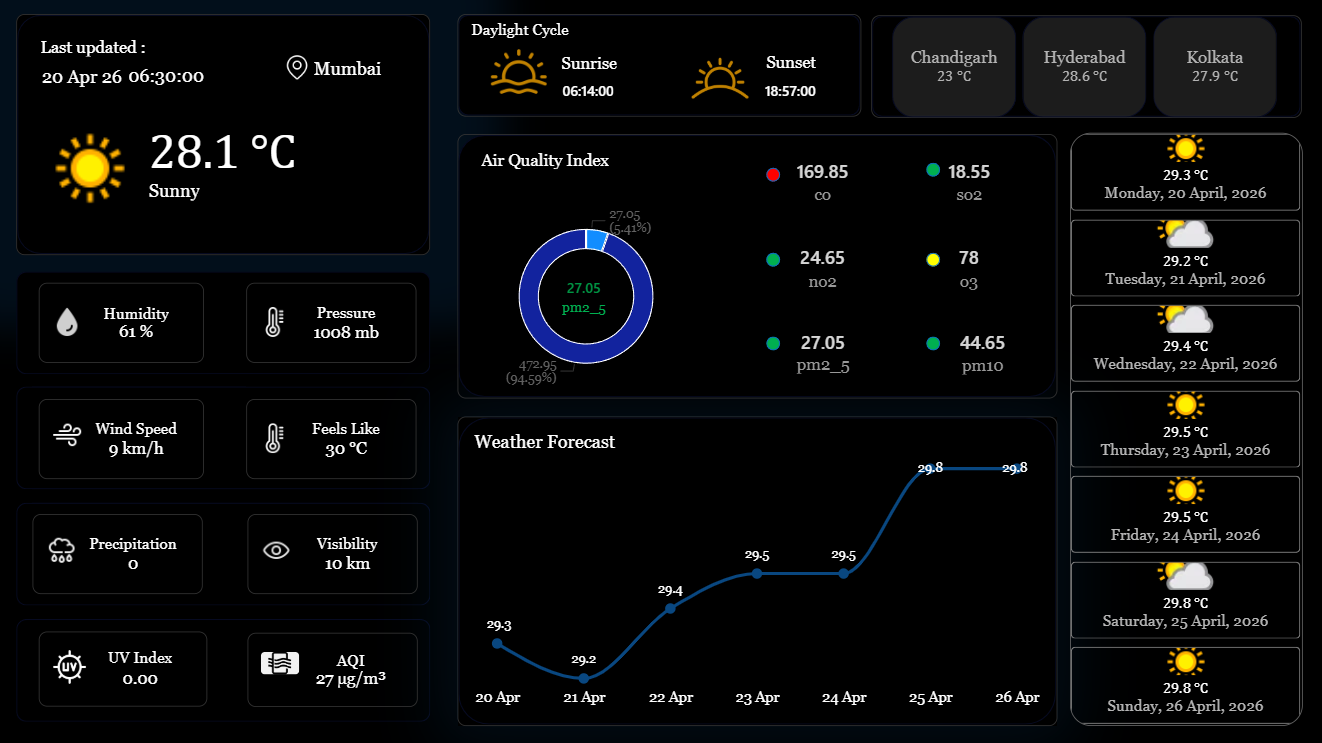

Layout of this report page (visuals, bound fields, positions):
{"tool":"powerbi","page":{"name":"Page 1","canvas":[1280,720],"ordinal":0},"visuals":[{"type":"shape","box":[15.7,14.3,397.1,231.4],"z":0},{"type":"shape","box":[438.3,400,575,296.7],"z":1000},{"type":"shape","box":[15.7,261.4,397.1,98.6],"z":2000},{"type":"shape","box":[15.7,594.3,397.1,98.6],"z":3000},{"type":"shape","box":[15.7,482.9,397.1,98.6],"z":4000},{"type":"shape","box":[15.7,371.4,397.1,98.6],"z":5000},{"type":"shape","box":[835.7,15.7,412.9,98.6],"z":6000},{"type":"shape","box":[438.6,14.3,387.1,98.6],"z":7000},{"type":"advancedSlicerVisual","fields":{"Values":["location.location.name"]},"box":[835.7,17.1,411.4,97.1],"z":8000},{"type":"shape","box":[142.9,101.4,190,80],"z":9000},{"type":"shape","box":[142.9,160,144.3,42.9],"z":10000},{"type":"shape","box":[301.1,44.4,98.9,42.2],"z":11000},{"type":"shape","box":[31,51,89,43],"z":12000},{"type":"image","box":[268.9,54.4,32.2,23.3],"z":13000},{"type":"cardVisual","fields":{"Data":["Min(current.current.condition.icon)"]},"box":[15.7,87.1,172.9,150],"z":14000},{"type":"lineChart","title":"Weather Forecast","fields":{"Category":["forcast_day.date.Variation.Date Hierarchy.Year","forcast_day.date.Variation.Date Hierarchy.Quarter","forcast_day.date.Variation.Date Hierarchy.Month","forcast_day.date.Variation.Date Hierarchy.Day"],"Y":["Avg(forcast_day.forecast.forecastday.day.avgtemp_c)"]},"box":[438.6,400,574.3,297.1],"z":15000},{"type":"shape","box":[120,50,79,44],"z":16000},{"type":"shape","box":[37.1,24.3,105.7,41.4],"z":17000},{"type":"cardVisual","fields":{"Data":["current.Humidity KPI"]},"box":[36.7,271.7,158.3,76.7],"z":18000},{"type":"cardVisual","fields":{"Data":["current.AQI KPI"]},"box":[237.1,607.1,162.9,71.4],"z":19000},{"type":"cardVisual","fields":{"Data":["Avg(current.current.uv)"]},"box":[36.7,606.7,161.7,71.7],"z":20000},{"type":"cardVisual","fields":{"Data":["current.Wind Speed"]},"box":[36.7,383.3,158.3,76.7],"z":21000},{"type":"cardVisual","fields":{"Data":["current.Visibility KPI"]},"box":[237.3,493.8,163,76.7],"z":22000},{"type":"cardVisual","fields":{"Data":["current.Feels Like KPI"]},"box":[236.7,383.3,163.3,76.7],"z":23000},{"type":"advancedSlicerVisual","fields":{"Values":["forcast_day.day_name"]},"box":[1025.7,128.6,222.9,568.6],"z":24000},{"type":"shape","box":[451.2,7.5,167.5,41.2],"z":25000},{"type":"shape","box":[527.3,40,67.3,40],"z":26000},{"type":"cardVisual","fields":{"Data":["Min(forcast_day.sunrise)"]},"box":[527.3,65.5,91.8,41.8],"z":27000},{"type":"image","box":[648.6,40,84.3,72.9],"z":28000},{"type":"shape","box":[729.1,48.2,55.5,23.6],"z":29000},{"type":"cardVisual","fields":{"Data":["Min(forcast_day.sunset)"]},"box":[721.8,71.8,88.2,30],"z":30000},{"type":"image","box":[467.1,42.9,60,52.9],"z":31000},{"type":"cardVisual","fields":{"Data":["Sum(current.current.precip_mm)"]},"box":[31.7,493.3,163.3,76.7],"z":32000},{"type":"shape","box":[642.9,128.6,167.1,42.9],"z":33000},{"type":"cardVisual","fields":{"Data":["current.Pressure KPI"]},"box":[236.7,271.7,163.3,76.7],"z":34000},{"type":"shape","box":[438.3,130,575,253.3],"z":35000},{"type":"cardVisual","fields":{"Data":["Avg(current.current.air_quality.co)"]},"box":[735,147,108,54],"z":36000},{"type":"cardVisual","fields":{"Data":["Sum(current.current.air_quality.o3)"]},"box":[875,230,108,54],"z":37000},{"type":"cardVisual","fields":{"Data":["Sum(current.current.air_quality.so2)"]},"box":[875,147,109,54],"z":38000},{"type":"cardVisual","fields":{"Data":["Sum(current.current.air_quality.no2)"]},"box":[735,230,108,54],"z":39000},{"type":"cardVisual","fields":{"Data":["Sum(current.current.air_quality.pm2_5)"]},"box":[735,310,109,55],"z":40000},{"type":"cardVisual","fields":{"Data":["Sum(current.current.air_quality.pm10)"]},"box":[888,310,108,56],"z":41000},{"type":"shape","box":[735,161.7,13.3,13.3],"z":42000},{"type":"shape","box":[887.5,157.5,13.3,13.3],"z":43000},{"type":"shape","box":[887.5,243.3,13.3,13.3],"z":44000},{"type":"shape","box":[887.5,324.2,13.3,13.3],"z":45000},{"type":"shape","box":[735,324.2,13.3,13.3],"z":46000},{"type":"shape","box":[735,243.3,13.3,13.3],"z":47000},{"type":"shape","box":[461.2,133.8,187.5,37.5],"z":48000},{"type":"cardVisual","fields":{"Data":["Sum(current.current.air_quality.pm2_5)"]},"box":[506.2,257.5,108.8,55],"z":49000},{"type":"donutChart","fields":{"Y":["Sum(current.current.air_quality.pm2_5)","current.left_value_pm2_5"]},"box":[458.6,185.7,205.7,198.6],"z":50000}]}

Visuals, with their boxes in screenshot pixels (x1, y1, x2, y2), scaled from the page's 1280x720 canvas onto the 1322x743 screenshot:
shape: [16, 15, 426, 254]
shape: [453, 413, 1047, 719]
shape: [16, 270, 426, 372]
shape: [16, 613, 426, 715]
shape: [16, 498, 426, 600]
shape: [16, 383, 426, 485]
shape: [863, 16, 1290, 118]
shape: [453, 15, 853, 117]
advancedSlicerVisual - location.location.name: [863, 18, 1288, 118]
shape: [148, 105, 344, 187]
shape: [148, 165, 297, 209]
shape: [311, 46, 413, 89]
shape: [32, 53, 124, 97]
image: [278, 56, 311, 80]
cardVisual - Min(current.current.condition.icon): [16, 90, 195, 245]
"Weather Forecast" lineChart: [453, 413, 1046, 719]
shape: [124, 52, 206, 97]
shape: [38, 25, 147, 68]
cardVisual - current.Humidity KPI: [38, 280, 201, 360]
cardVisual - current.AQI KPI: [245, 626, 413, 700]
cardVisual - Avg(current.current.uv): [38, 626, 205, 700]
cardVisual - current.Wind Speed: [38, 396, 201, 475]
cardVisual - current.Visibility KPI: [245, 510, 413, 589]
cardVisual - current.Feels Like KPI: [244, 396, 413, 475]
advancedSlicerVisual - forcast_day.day_name: [1059, 133, 1290, 719]
shape: [466, 8, 639, 50]
shape: [545, 41, 614, 83]
cardVisual - Min(forcast_day.sunrise): [545, 68, 639, 111]
image: [670, 41, 757, 117]
shape: [753, 50, 810, 74]
cardVisual - Min(forcast_day.sunset): [745, 74, 837, 105]
image: [482, 44, 544, 99]
cardVisual - Sum(current.current.precip_mm): [33, 509, 201, 588]
shape: [664, 133, 837, 177]
cardVisual - current.Pressure KPI: [244, 280, 413, 360]
shape: [453, 134, 1047, 396]
cardVisual - Avg(current.current.air_quality.co): [759, 152, 871, 207]
cardVisual - Sum(current.current.air_quality.o3): [904, 237, 1015, 293]
cardVisual - Sum(current.current.air_quality.so2): [904, 152, 1016, 207]
cardVisual - Sum(current.current.air_quality.no2): [759, 237, 871, 293]
cardVisual - Sum(current.current.air_quality.pm2_5): [759, 320, 872, 377]
cardVisual - Sum(current.current.air_quality.pm10): [917, 320, 1029, 378]
shape: [759, 167, 773, 181]
shape: [917, 163, 930, 176]
shape: [917, 251, 930, 265]
shape: [917, 335, 930, 348]
shape: [759, 335, 773, 348]
shape: [759, 251, 773, 265]
shape: [476, 138, 670, 177]
cardVisual - Sum(current.current.air_quality.pm2_5): [523, 266, 635, 322]
donutChart - Sum(current.current.air_quality.pm2_5) x current.left_value_pm2_5: [474, 192, 686, 397]
